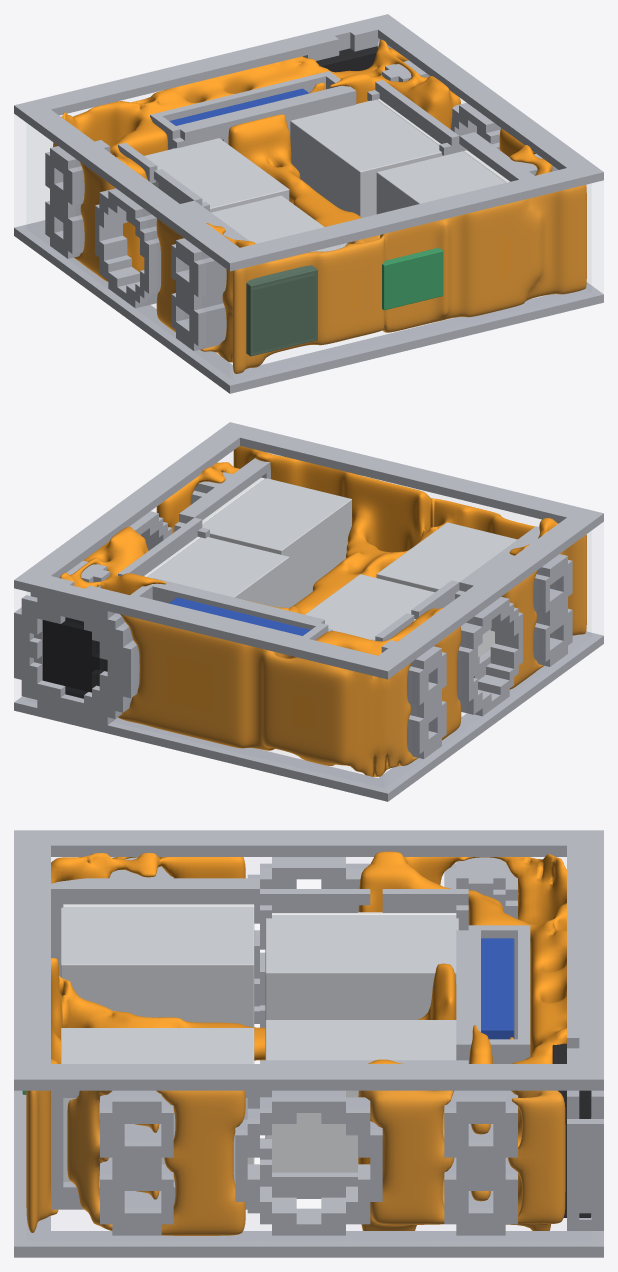
File: structure-n48_m200_p5.glb
3 renders of one model, top to bottom at view 1: azimuth 30°, elevation 25°; view 2: azimuth 150°, elevation 25°; view 3: azimuth 270°, elevation 25°, orthographic. The views are drawn at different scales.
Visible parts, largest first — view 1: fixed, structure, servo_Bp, servo_Bn, patch, servo_Ap, servo_An, xbee, skin, camera, battery; view 2: fixed, structure, servo_Ap, servo_Bp, servo_An, servo_Bn, camera, battery, skin; view 3: fixed, structure, servo_An, servo_Bn, servo_Bp, servo_Ap, plate_Bp, battery, camera, plate_Ap, plate_An.
Boxes of the visible parts, <box> form: fixed: <box>14,14,603,393</box>; structure: <box>53,39,586,373</box>; servo_Bp: <box>290,100,443,217</box>; servo_Bn: <box>144,138,289,212</box>; patch: <box>246,265,317,356</box>; servo_Ap: <box>376,151,505,214</box>; servo_An: <box>211,195,347,251</box>; xbee: <box>382,247,443,310</box>; skin: <box>26,123,591,291</box>; camera: <box>316,46,377,72</box>; battery: <box>169,88,309,125</box>; fixed: <box>14,422,603,801</box>; structure: <box>60,446,586,776</box>; servo_Ap: <box>202,478,351,607</box>; servo_Bp: <box>147,537,289,608</box>; servo_An: <box>376,522,517,592</box>; servo_Bn: <box>305,574,434,639</box>; camera: <box>43,617,107,698</box>; battery: <box>169,597,310,635</box>; skin: <box>26,531,591,673</box>; fixed: <box>14,830,603,1257</box>; structure: <box>26,851,566,1235</box>; servo_An: <box>61,907,254,1027</box>; servo_Bn: <box>265,915,458,1019</box>; servo_Bp: <box>265,1020,456,1060</box>; servo_Ap: <box>61,1028,254,1063</box>; plate_Bp: <box>265,1090,358,1172</box>; battery: <box>481,938,514,1039</box>; camera: <box>552,1043,591,1217</box>; plate_Ap: <box>63,1098,254,1181</box>; plate_An: <box>63,904,254,907</box>.
Size of the model in its own units: 138 by 46 by 138.
